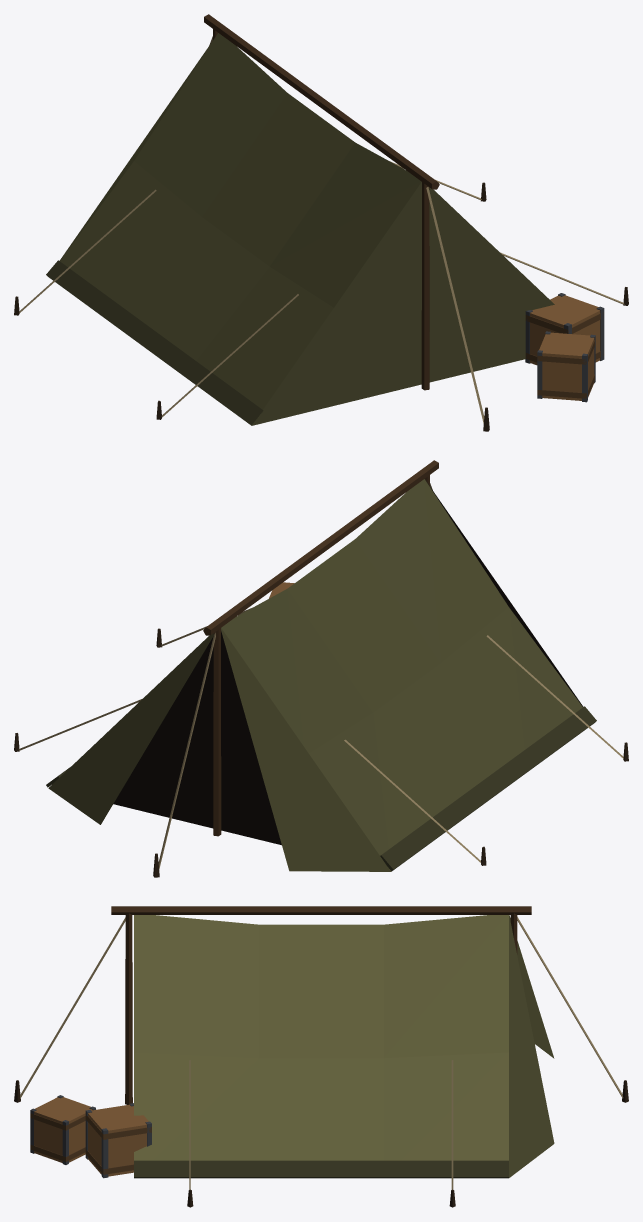
The model's file is dk_tent_c.glb.
3 views of the same model, one above another, from view 1: azimuth 30°, elevation 25°; view 2: azimuth 150°, elevation 25°; view 3: azimuth 270°, elevation 25° (orthographic). The views are drawn at different scales.
Parts seen in each view (by area): view 1: dk_tent_c; view 2: dk_tent_c; view 3: dk_tent_c.
Boxes of the visible parts, x1=… form: dk_tent_c: x1=14, y1=14, x2=628, y2=431; dk_tent_c: x1=14, y1=460, x2=628, y2=877; dk_tent_c: x1=14, y1=906, x2=628, y2=1207.
Size of the model in its own units: 9.92 by 4.31 by 12.14.
1 material, 1 textured.
